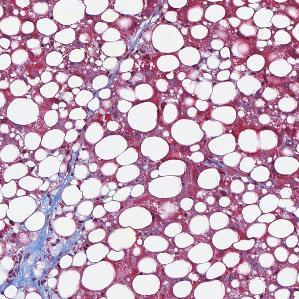fibrosis: (16, 210, 83, 288)
